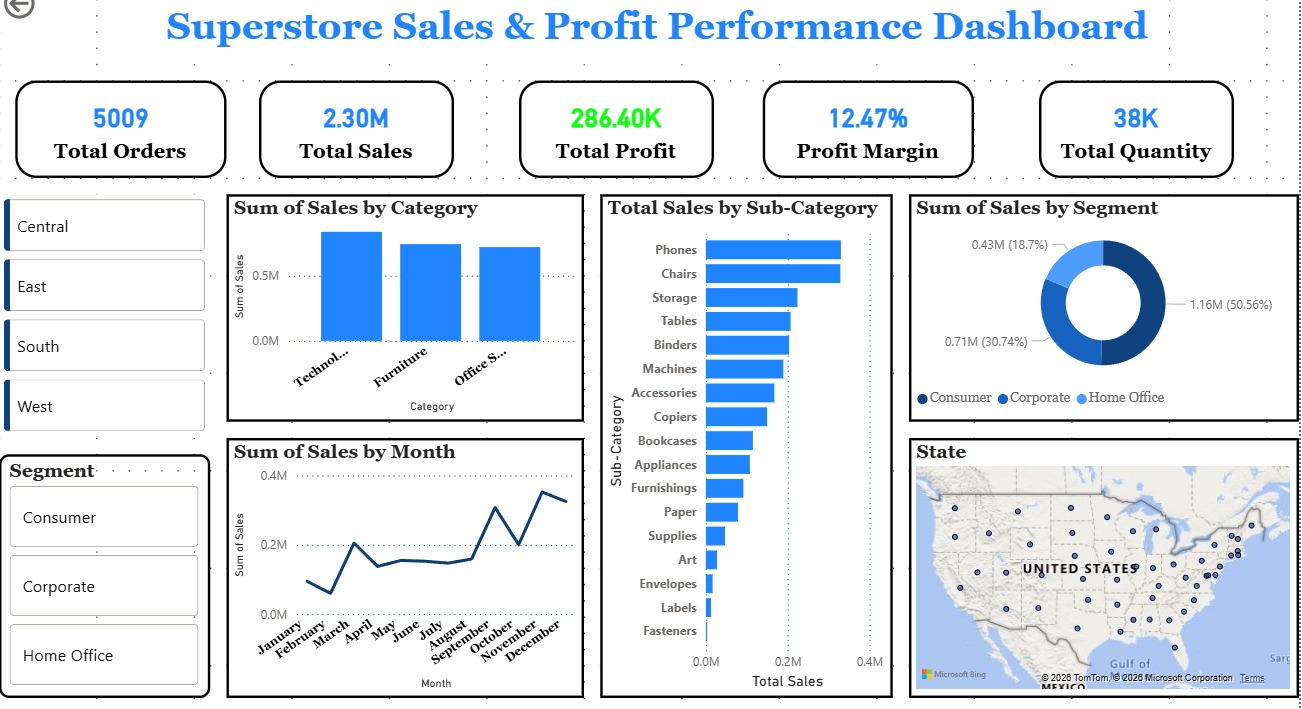

The dashboard page shown, as its layout file describes it:
{"tool":"powerbi","page":{"name":"Page 1","canvas":[1280,720],"ordinal":0},"visuals":[{"type":"card","fields":{"Values":["Sample - Superstore.Total Sales"]},"box":[256,96,192,96],"z":0},{"type":"card","fields":{"Values":["Sample - Superstore.Total Profit"]},"box":[512,96,192,96],"z":1000},{"type":"card","fields":{"Values":["Sample - Superstore.Profit Margin"]},"box":[752,96,208,96],"z":2000},{"type":"card","fields":{"Values":["Sample - Superstore.Total Quantity"]},"box":[1024,96,192,96],"z":3000},{"type":"actionButton","box":[0,0,100,40],"z":4000},{"type":"columnChart","fields":{"Category":["Sample - Superstore.Category"],"Y":["Sum(Sample - Superstore.Sales)"]},"box":[224,208,352,224],"z":5000},{"type":"donutChart","fields":{"Category":["Sample - Superstore.Segment"],"Y":["Sum(Sample - Superstore.Sales)"]},"box":[896,208,384,224],"z":6000},{"type":"map","fields":{"Category":["Sample - Superstore.State"]},"box":[896,448,384,256],"z":7000},{"type":"barChart","fields":{"Y":["Sample - Superstore.Total Sales"],"Category":["Sample - Superstore.Sub-Category"]},"box":[592,208,288,496],"z":8000},{"type":"lineChart","fields":{"Category":["Sample - Superstore.Order Date.Variation.Date Hierarchy.Month"],"Y":["Sum(Sample - Superstore.Sales)"]},"box":[224,448,352,256],"z":9000},{"type":"advancedSlicerVisual","fields":{"Values":["Sample - Superstore.Region"]},"box":[0,208,208,240],"z":10000},{"type":"advancedSlicerVisual","fields":{"Values":["Sample - Superstore.Segment"]},"box":[0,464,208,240],"z":11000},{"type":"textbox","box":[144,16,1008,64],"z":12000},{"type":"card","fields":{"Values":["Sample - Superstore.Total Orders"]},"box":[16,96,208,96],"z":13000}]}

Visuals, with their boxes in screenshot pixels (x1, y1, x2, y2):
card - Sample - Superstore.Total Sales: bbox=[261, 80, 454, 176]
card - Sample - Superstore.Total Profit: bbox=[519, 80, 712, 176]
card - Sample - Superstore.Profit Margin: bbox=[760, 80, 969, 176]
card - Sample - Superstore.Total Quantity: bbox=[1034, 80, 1227, 176]
actionButton: bbox=[3, 0, 104, 23]
columnChart - Sample - Superstore.Category x Sum(Sample - Superstore.Sales): bbox=[229, 192, 583, 418]
donutChart - Sample - Superstore.Segment x Sum(Sample - Superstore.Sales): bbox=[905, 192, 1291, 418]
map - Sample - Superstore.State: bbox=[905, 434, 1291, 691]
barChart - Sample - Superstore.Total Sales x Sample - Superstore.Sub-Category: bbox=[599, 192, 889, 691]
lineChart - Sample - Superstore.Order Date.Variation.Date Hierarchy.Month x Sum(Sample - Superstore.Sales): bbox=[229, 434, 583, 691]
advancedSlicerVisual - Sample - Superstore.Region: bbox=[3, 192, 213, 434]
advancedSlicerVisual - Sample - Superstore.Segment: bbox=[3, 450, 213, 691]
textbox: bbox=[148, 0, 1163, 64]
card - Sample - Superstore.Total Orders: bbox=[19, 80, 229, 176]
